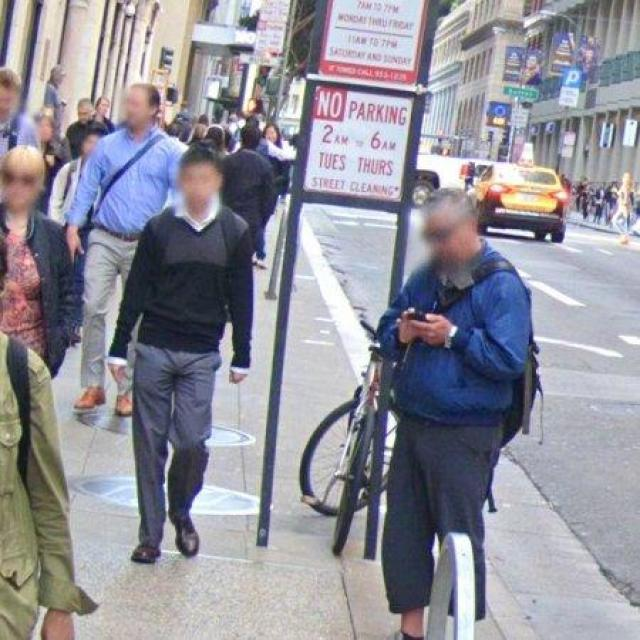bicycle: (303, 347, 385, 557)
